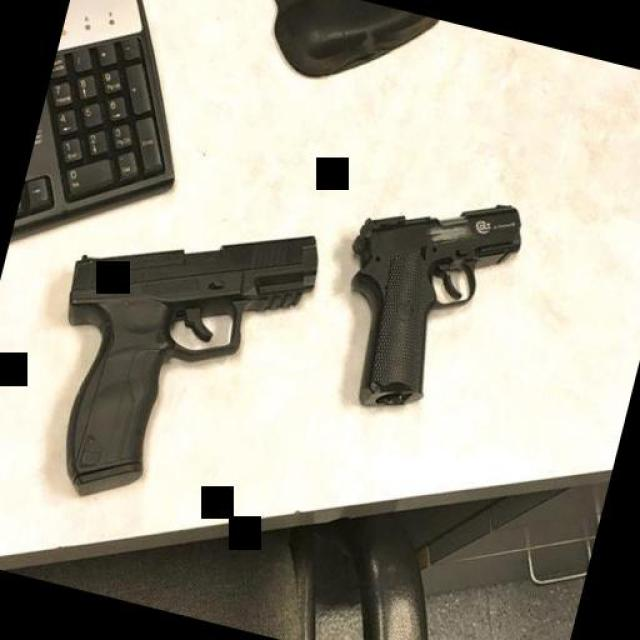gun: (19, 176, 329, 529), (313, 165, 535, 435)
